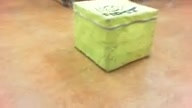cube: (72, 1, 159, 73)
